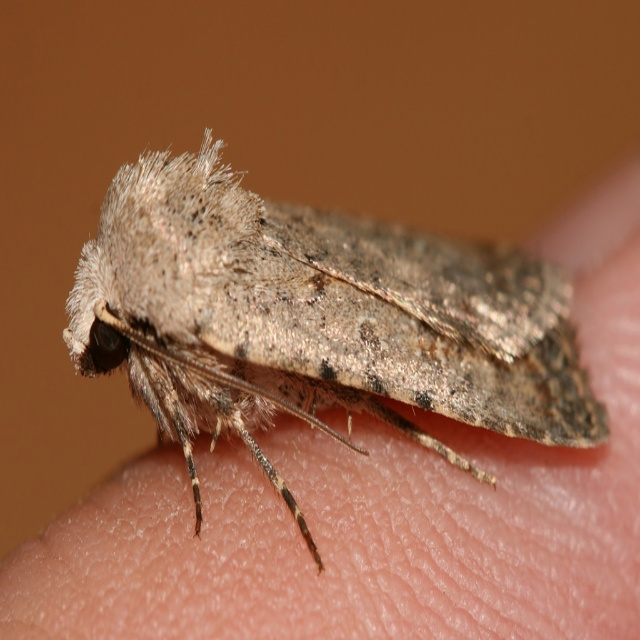Moths and butterflies: (61, 126, 614, 579)
